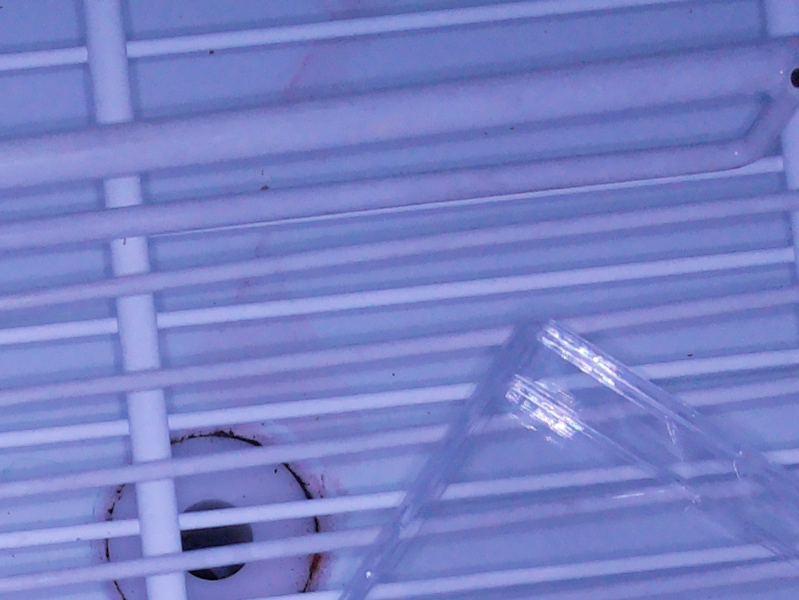plate: (330, 312, 799, 600)
